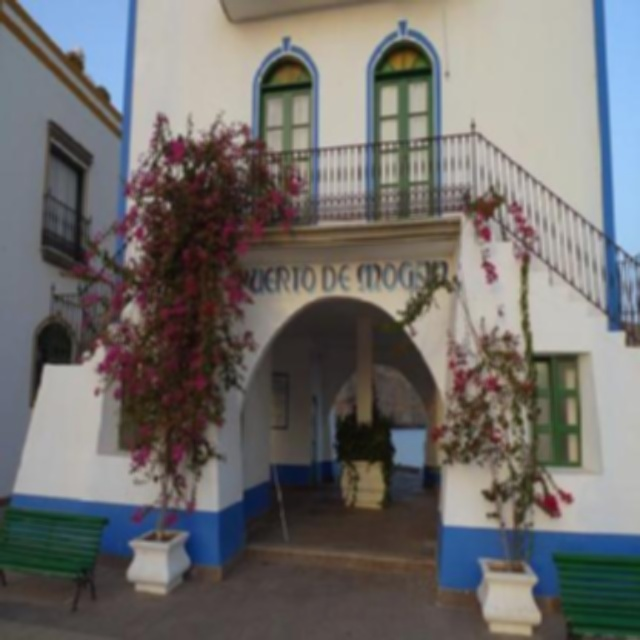stair: (486, 229, 640, 354)
